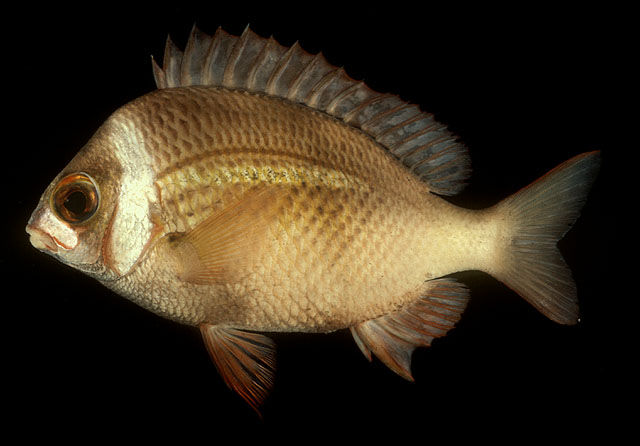fish: (25, 23, 600, 410)
